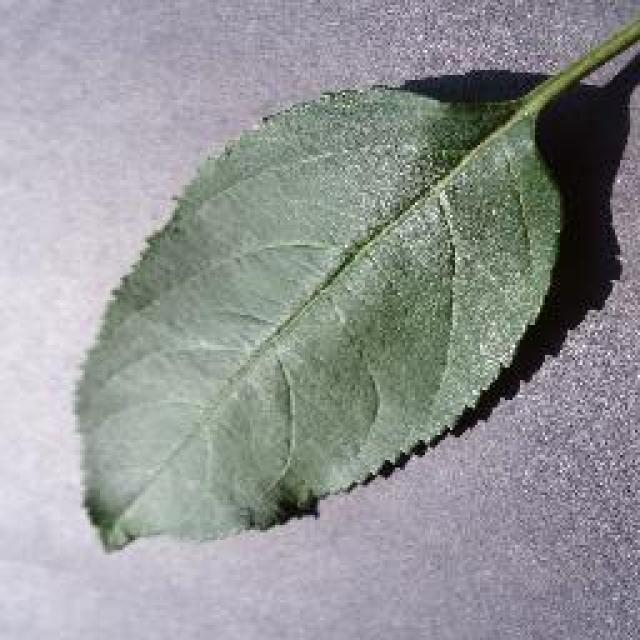apple healthy: (70, 0, 637, 552)
